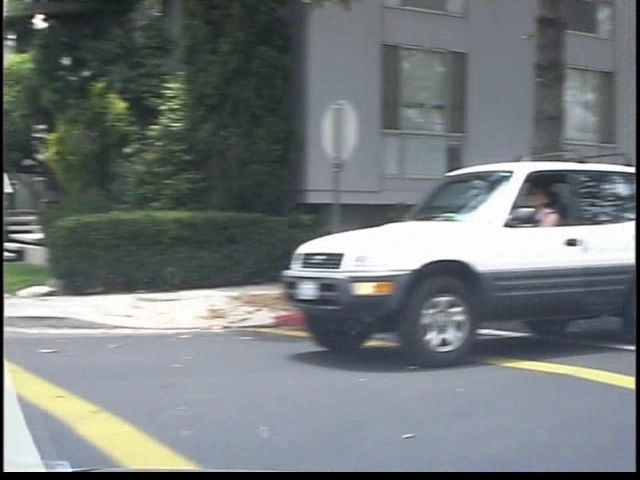person: (533, 174, 582, 347)
